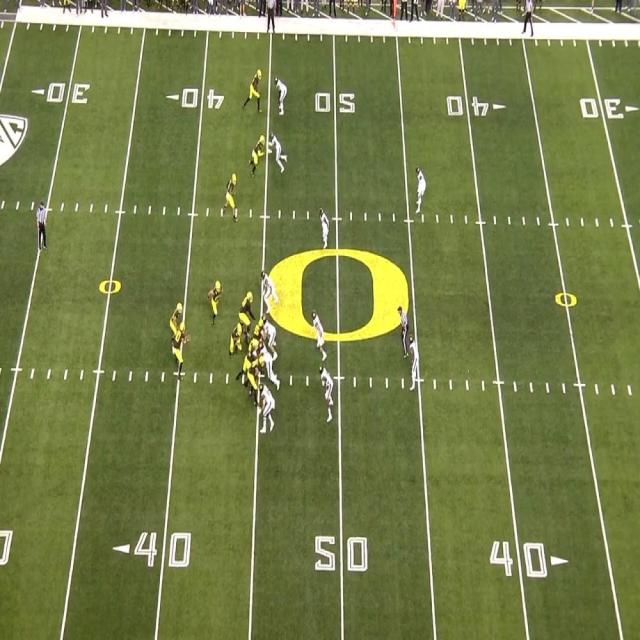db: (270, 132, 289, 172), (273, 78, 290, 115), (409, 333, 420, 388), (317, 208, 329, 245), (416, 165, 425, 207)
lb: (319, 365, 333, 417), (260, 270, 277, 312), (312, 312, 326, 357)
qb: (175, 326, 187, 372)
